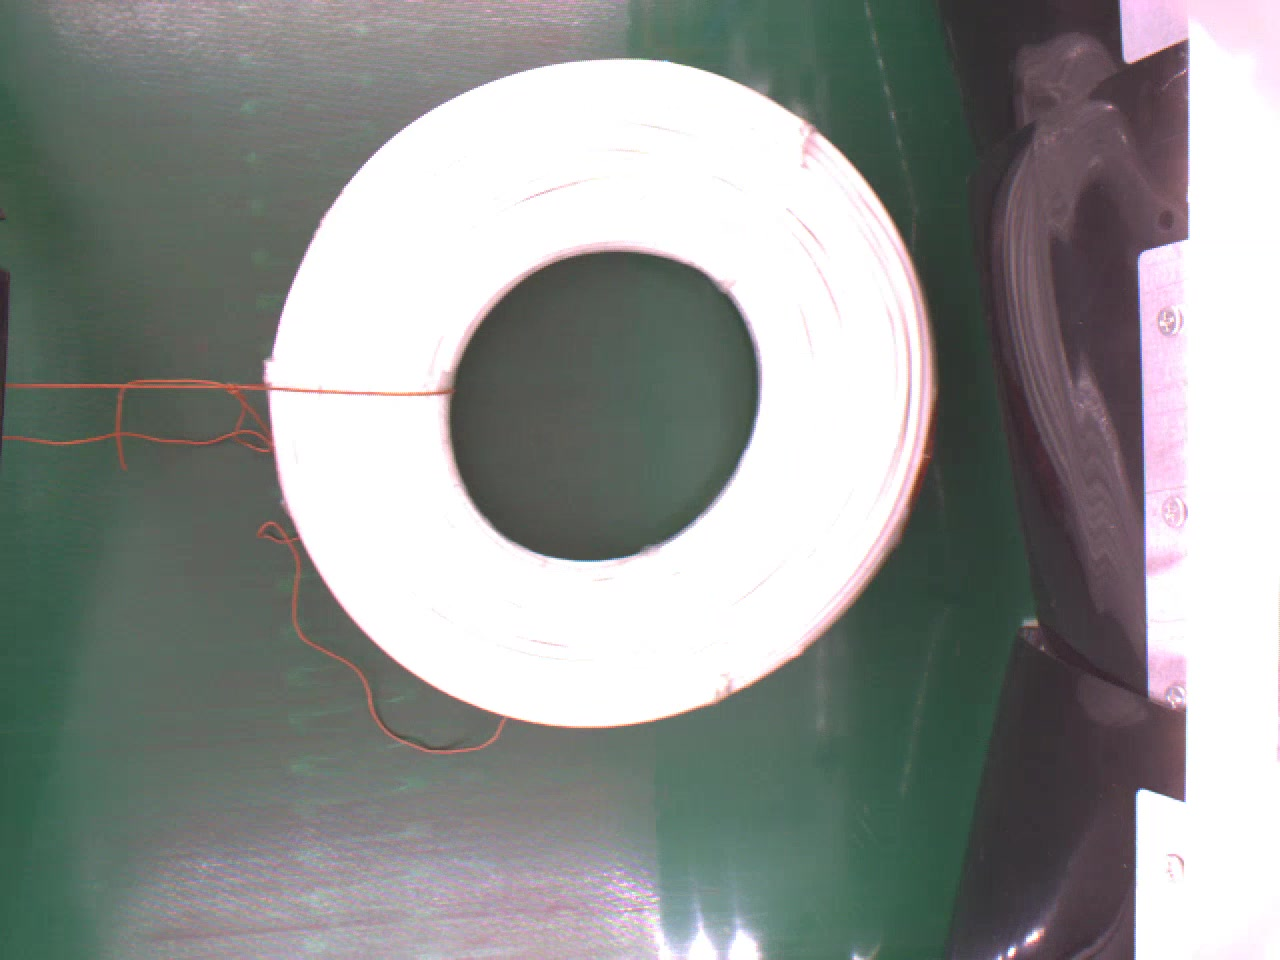white: (262, 57, 943, 721)
